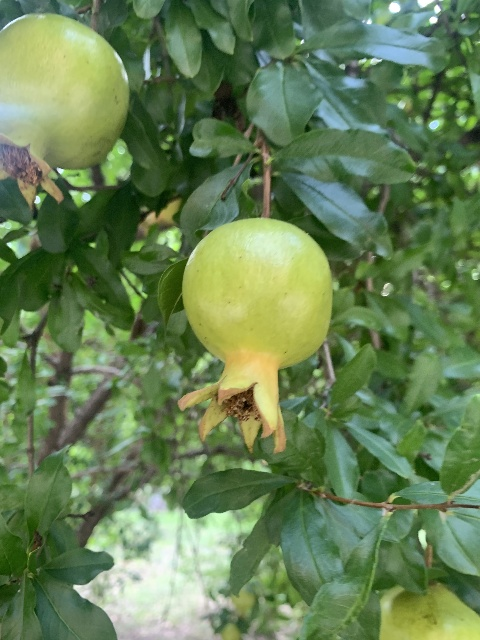mid-growth: (175, 217, 334, 453), (0, 12, 129, 209)
